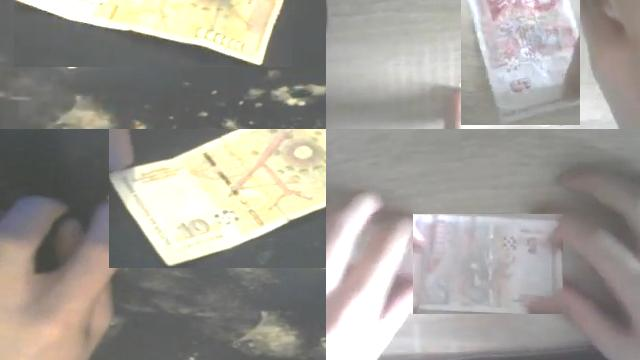10leva: (109, 129, 326, 268), (14, 0, 287, 67)
5leva: (413, 214, 563, 314), (467, 0, 580, 125)
